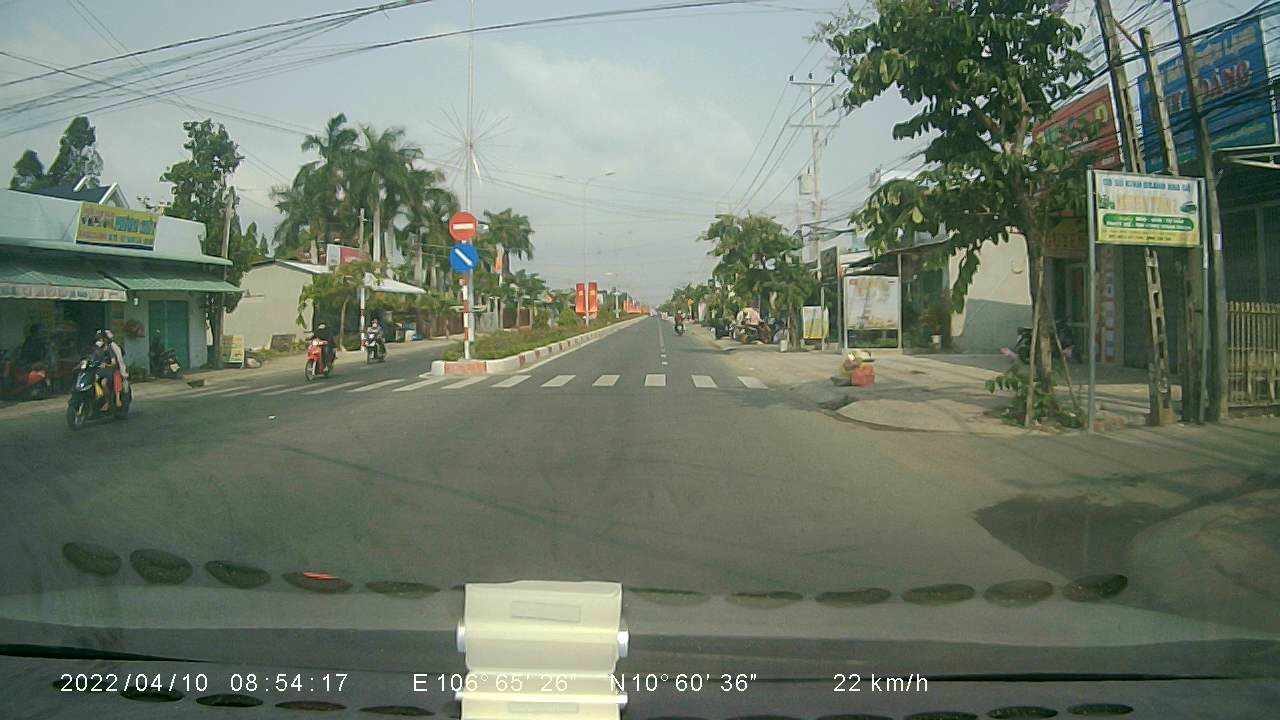Cam di nguoc chieu: (446, 209, 478, 240)
Huong di phai re phai: (448, 241, 480, 273)
